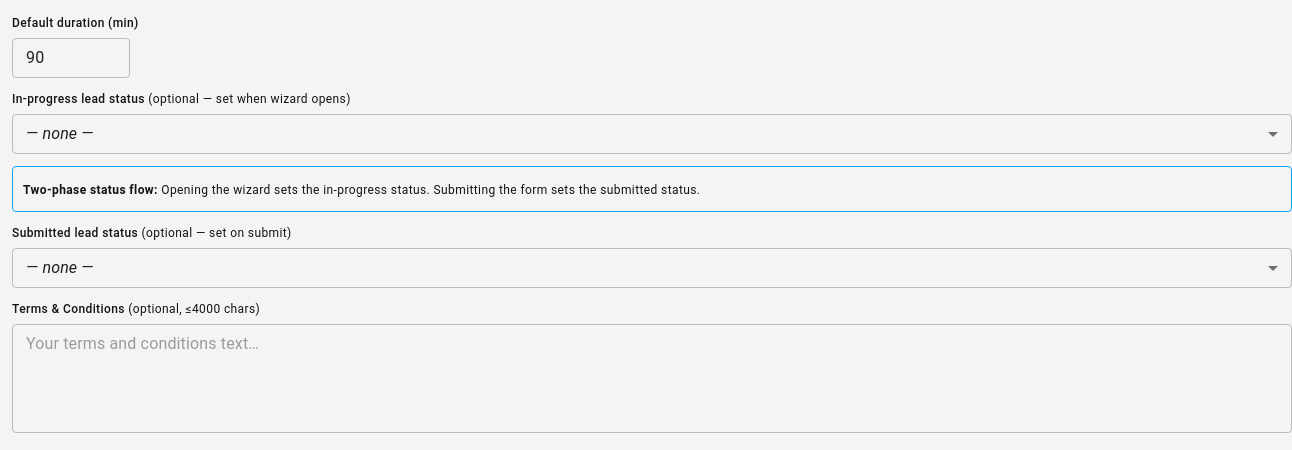
StartDesignVisitConfig › renders lead status options in the intermediate status select when opened
This screenshot has width=1292, height=450.
# Open the first combobox (intermediate status)
Press the mouse on the dropdown labelled "— none —" below "In-progress lead status" at (60, 134), box [26,124,94,143]
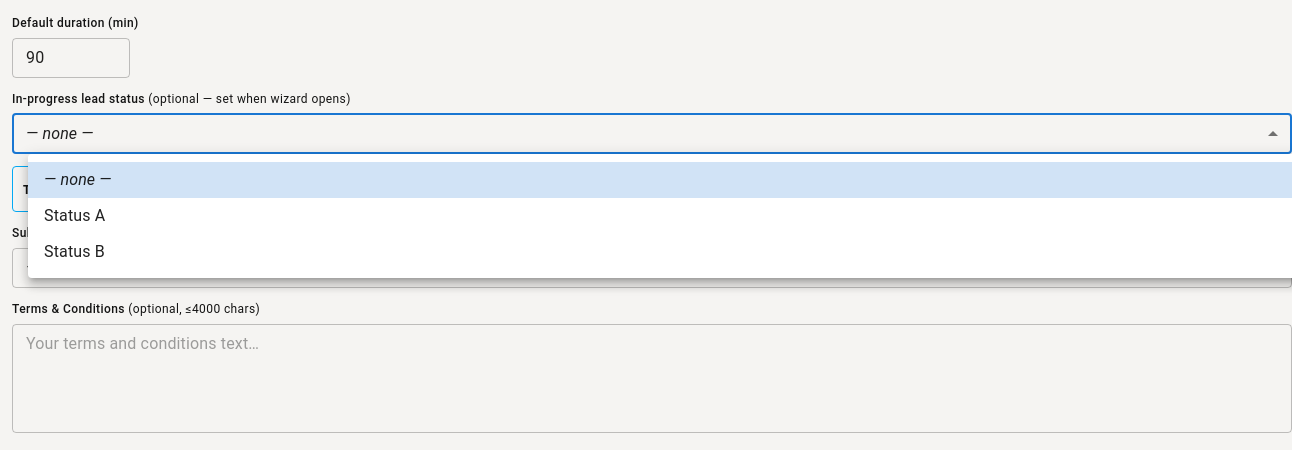
Expected: the option "Status A" is shown, [44,206,105,225]
Expected: the option "Status B" is shown, [44,242,105,261]
